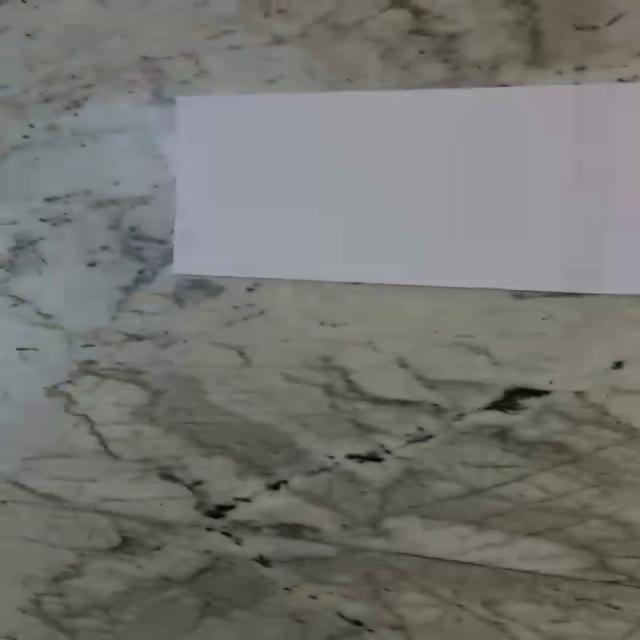road: (169, 80, 640, 296)
